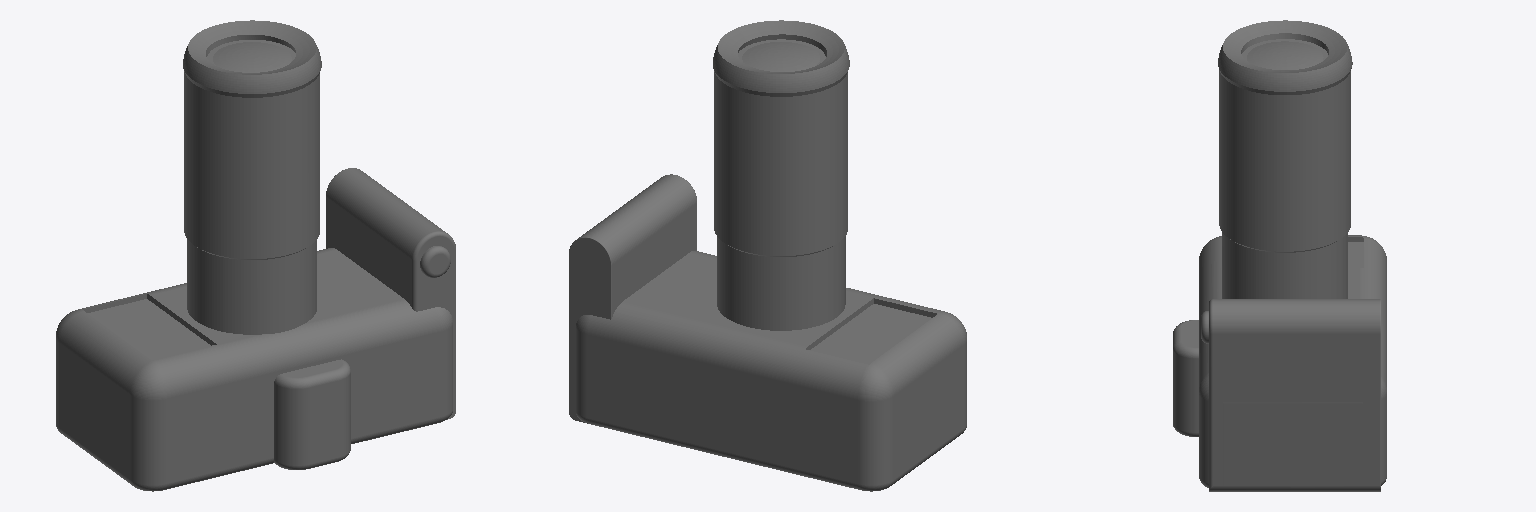
robot.urdf — plane:
<?xml version="0.0" ?>
<robot name="plane">
  <link name="planeLink">
  <contact>
      <lateral_friction value="1"/>
  </contact>
    <inertial>
      <origin rpy="0 0 0" xyz="0 0 0"/>
       <mass value=".0"/>
       <inertia ixx="0" ixy="0" ixz="0" iyy="0" iyz="0" izz="0"/>
    </inertial>
    <visual>
      <origin rpy="0 0 0" xyz="0 0 0"/>
      <geometry>
				<mesh filename="camera.stl" scale="0.5 0.5 0.5"/>
      </geometry>
      <material name="grey">
        <color rgba="0.5 0.5 0.5 1.0"/>
      </material>
    </visual>
    <collision>
      <origin rpy="0 0 0" xyz="0 0 0"/>
      <geometry>
				<mesh filename="camera.stl" scale="0.5 0.5 0.5"/>
      </geometry>
    </collision>
  </link>
</robot>

--- What the picture shows (computed from the rendered views, not written in the file) ---
The picture shows the robot from 3 angles, left to right: view 1: azimuth 30°, elevation 25°; view 2: azimuth 150°, elevation 25°; view 3: azimuth 270°, elevation 25°; orthographic projection.
Model plane with 1 links and 0 joints (none), rooted at planeLink, posed all joints at 0.
Links seen in each view (by area): view 1: planeLink; view 2: planeLink; view 3: planeLink.
Link boxes in pixels (x1,y1,x2,y2): planeLink: (56,20,455,491); planeLink: (569,20,966,491); planeLink: (1173,20,1386,491).
Size in the robot's own frame: 0.6875 by 0.4125 by 0.7833 metres.
Meshes: 1 distinct files referenced, 1 mesh visuals loaded (1 binary STL).